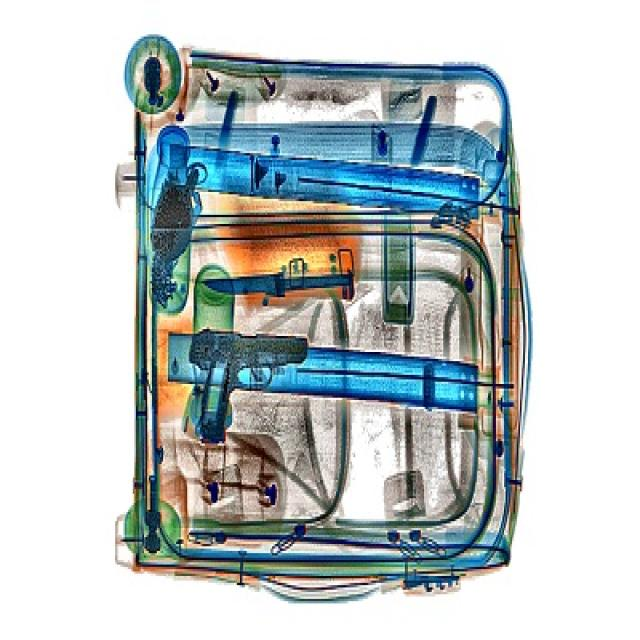grenade: (151, 168, 202, 259)
knife: (204, 266, 364, 308)
pistol: (190, 329, 310, 444)
